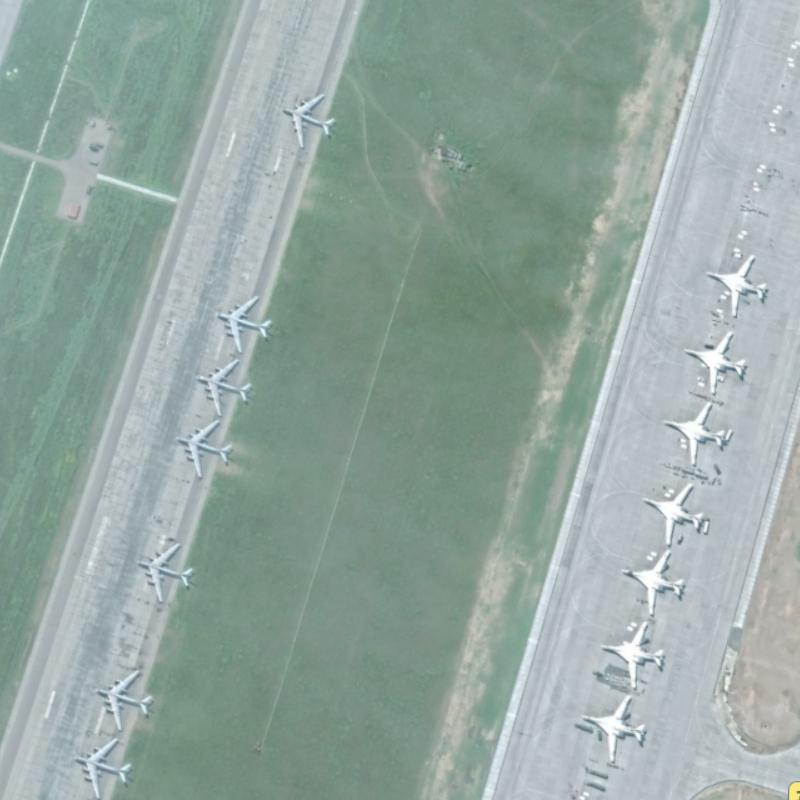A17: (91, 664, 156, 734), (190, 354, 257, 419), (67, 736, 136, 799), (133, 540, 196, 605), (211, 292, 275, 354), (170, 419, 236, 478), (278, 91, 339, 150)
A6: (597, 619, 666, 692), (578, 693, 648, 764), (660, 400, 733, 467), (617, 547, 687, 616), (701, 252, 769, 319), (679, 328, 746, 396), (639, 481, 707, 547)
